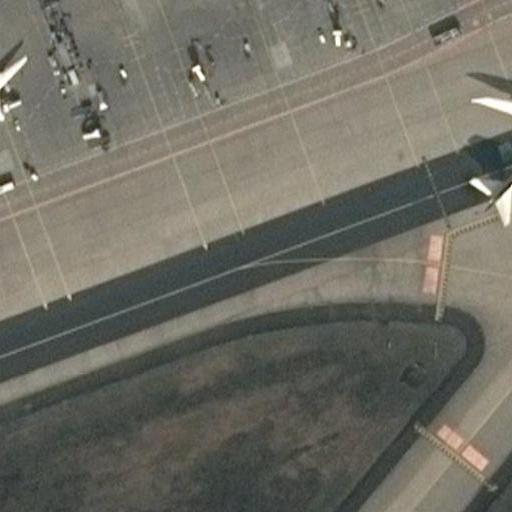Aircraft: (446, 55, 512, 233), (0, 24, 28, 121)
